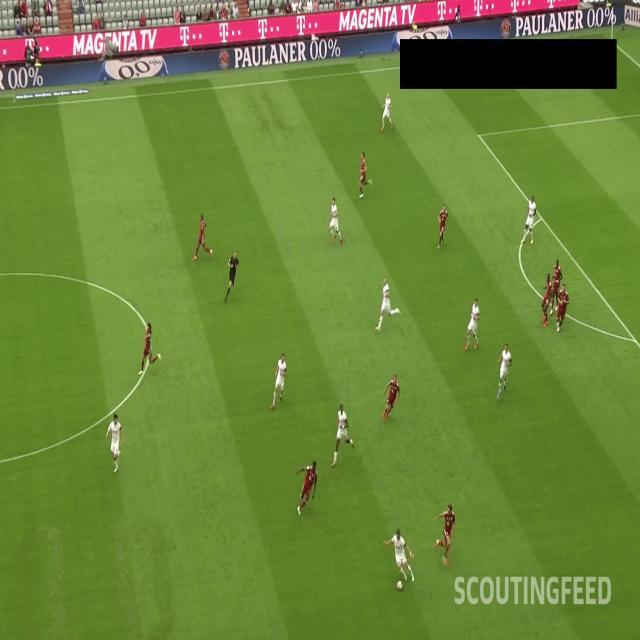ball: (395, 579, 405, 595)
player: (330, 396, 356, 472), (382, 525, 416, 582), (292, 455, 319, 518), (432, 503, 458, 568), (376, 274, 401, 334), (139, 317, 162, 377), (105, 410, 124, 476), (494, 341, 514, 402), (190, 212, 213, 265), (464, 295, 483, 354), (270, 350, 288, 412), (381, 371, 402, 422), (356, 147, 374, 199), (556, 280, 571, 337), (522, 194, 538, 244), (328, 194, 343, 247), (540, 270, 553, 329), (434, 202, 449, 250), (552, 254, 562, 316), (381, 89, 396, 130)
referee: (222, 247, 240, 306)
